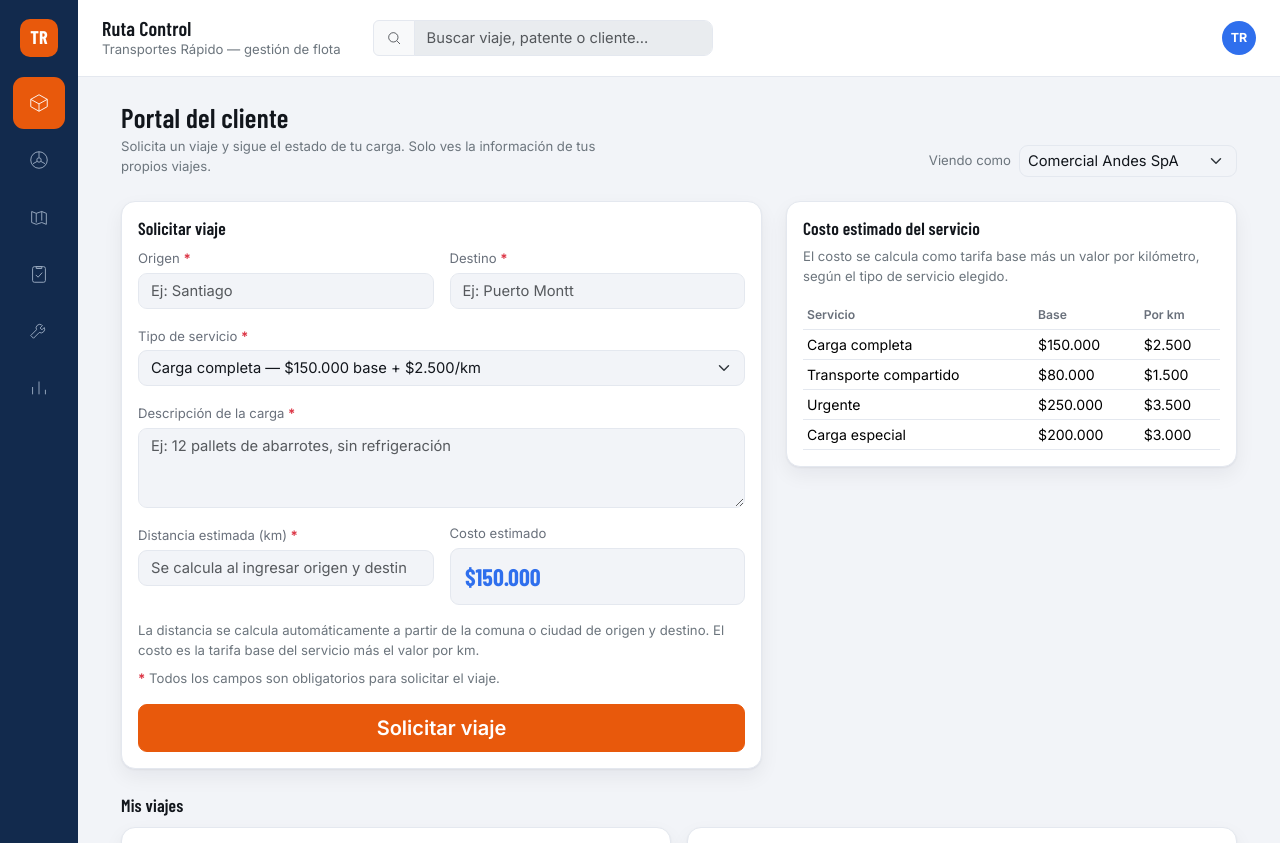
Test: App › cambia de vista al elegir cada rol en el menú lateral
Click the button named "Conductor": (39, 160) [13,134,65,186]
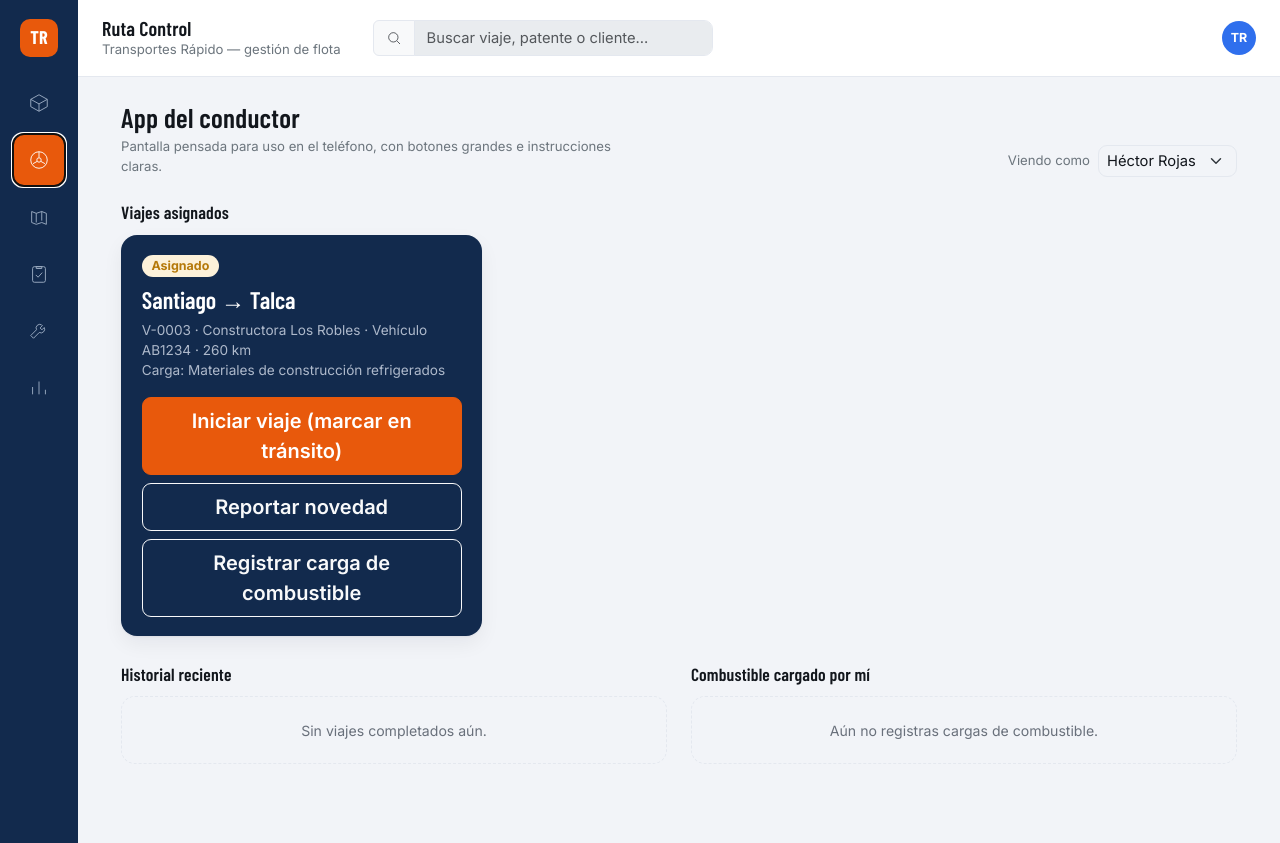
Result: the heading "App del conductor" is shown at [121,101,300,133]
Click the button named "Supervisor de ruta": (39, 217) [13,191,65,243]
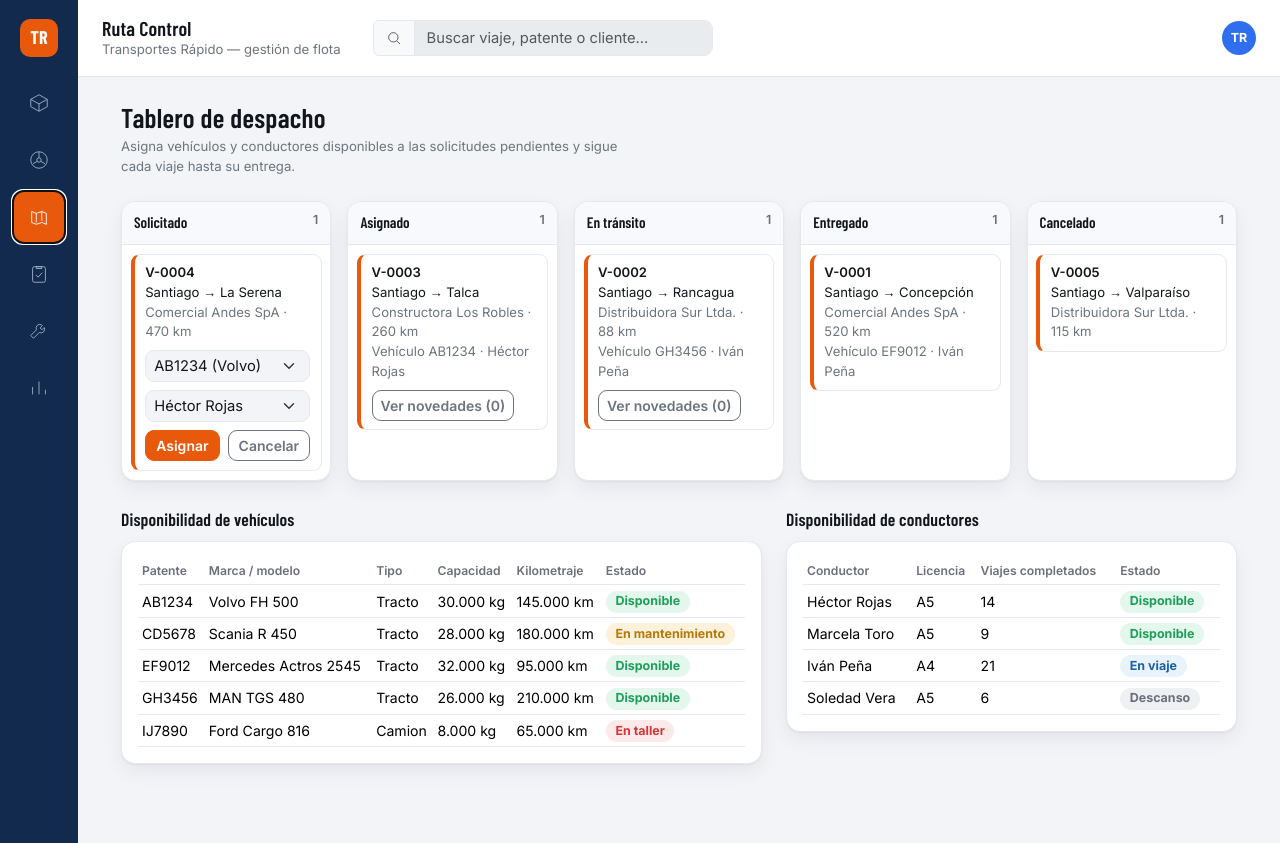
Result: the heading "Tablero de despacho" is shown at [121,101,326,133]
Click the button named "Jefe de flota": (39, 274) [13,248,65,300]
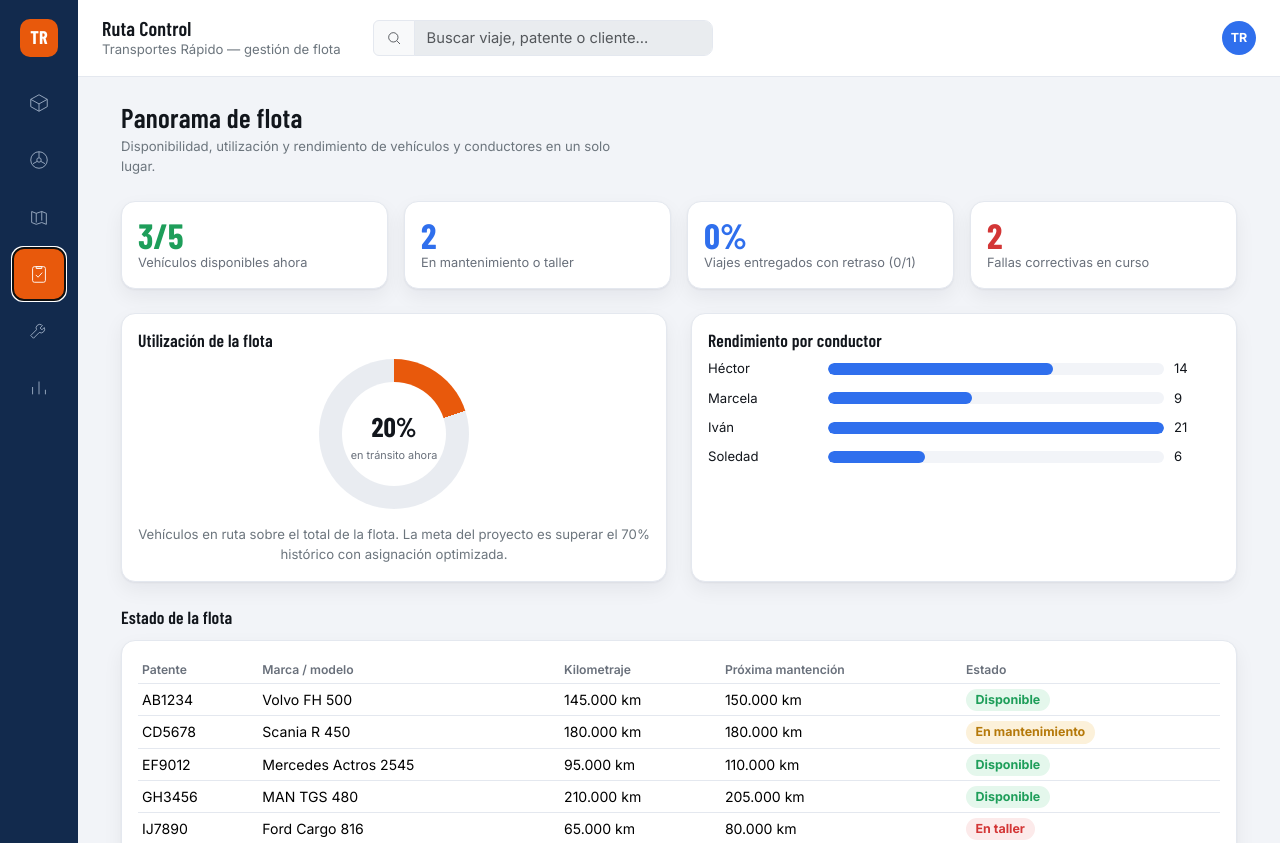
Result: the heading "Panorama de flota" is shown at [121,101,302,133]
Click the button named "Mantenimiento": (39, 330) [13,304,65,356]
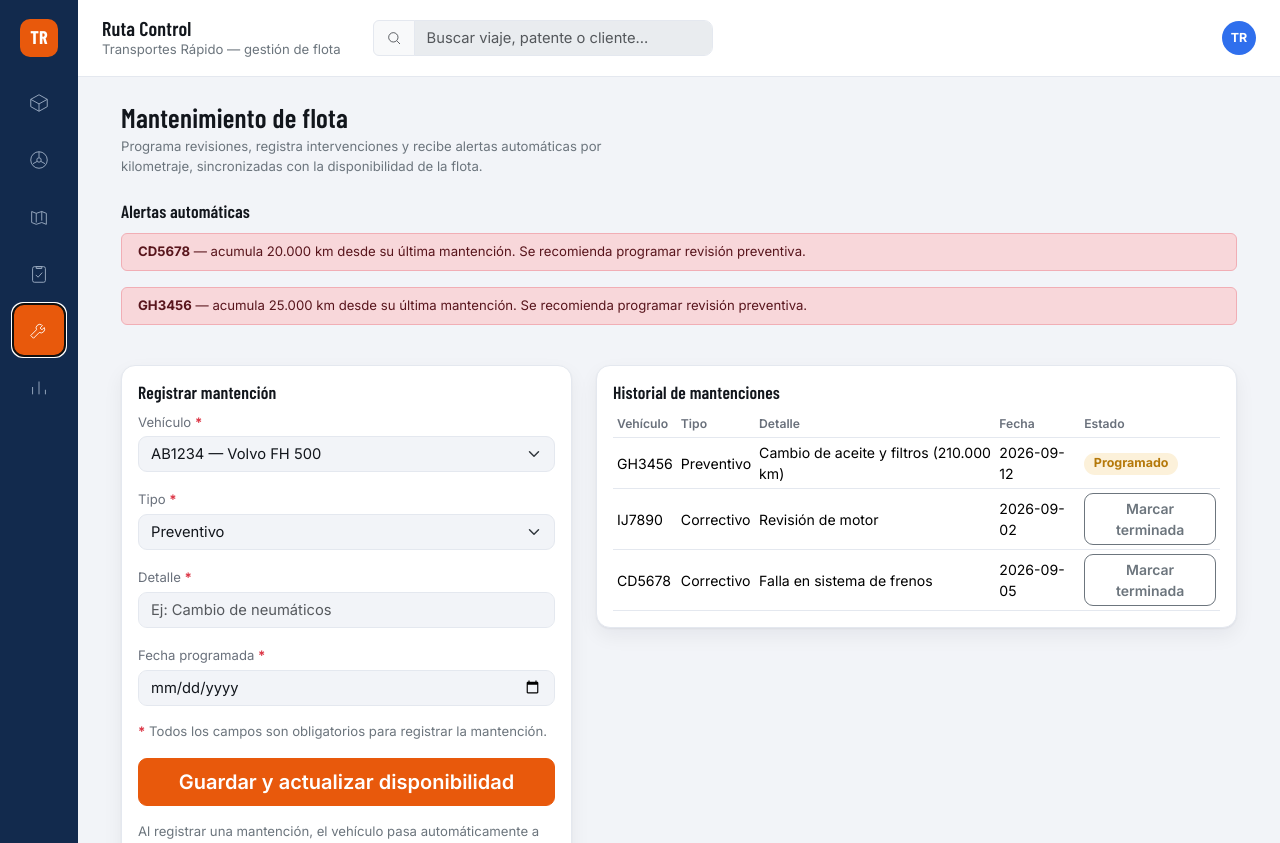
Result: the heading "Mantenimiento de flota" is shown at [121,101,348,133]
Click the button named "Administrador": (39, 387) [13,361,65,413]
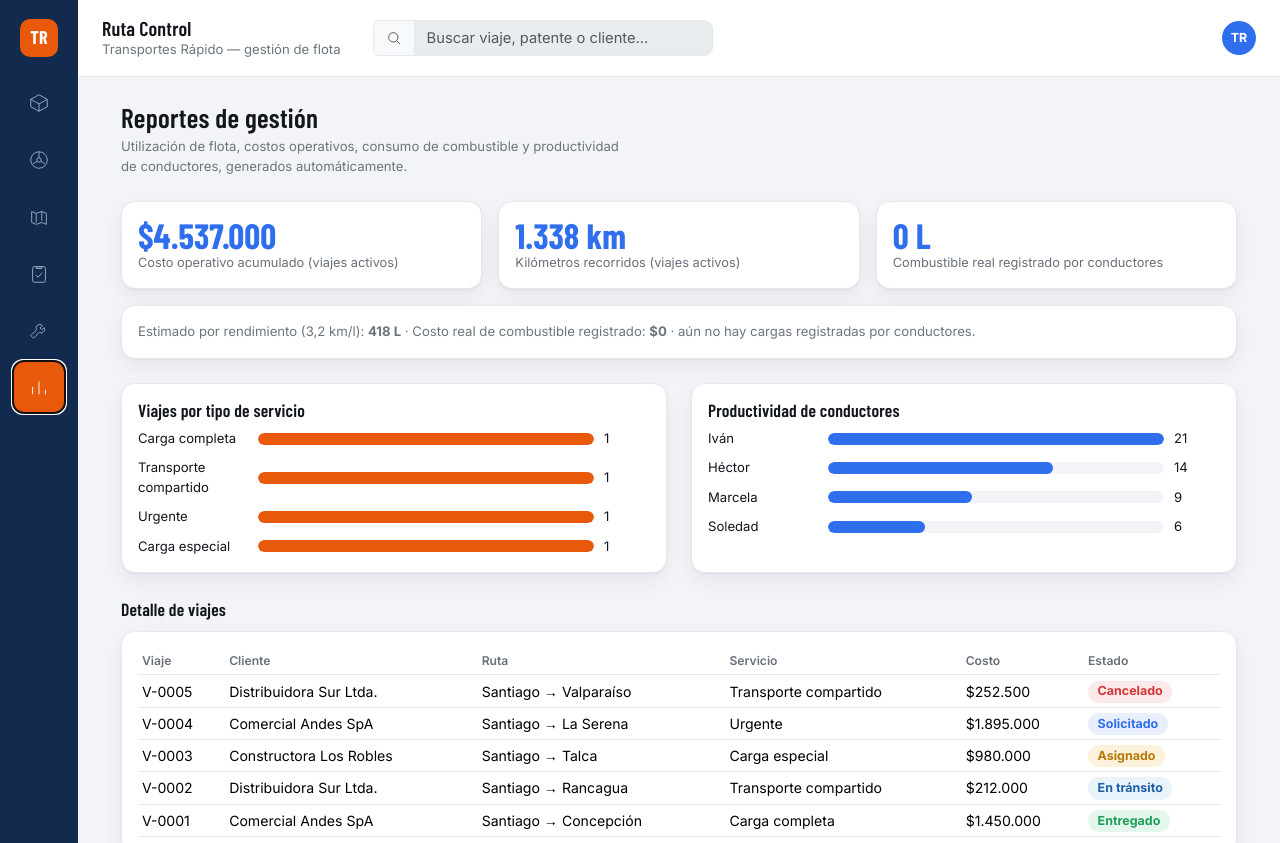
Result: the heading "Reportes de gestión" is shown at [121,101,318,133]
Click the button named "Cliente": (39, 103) [13,77,65,129]
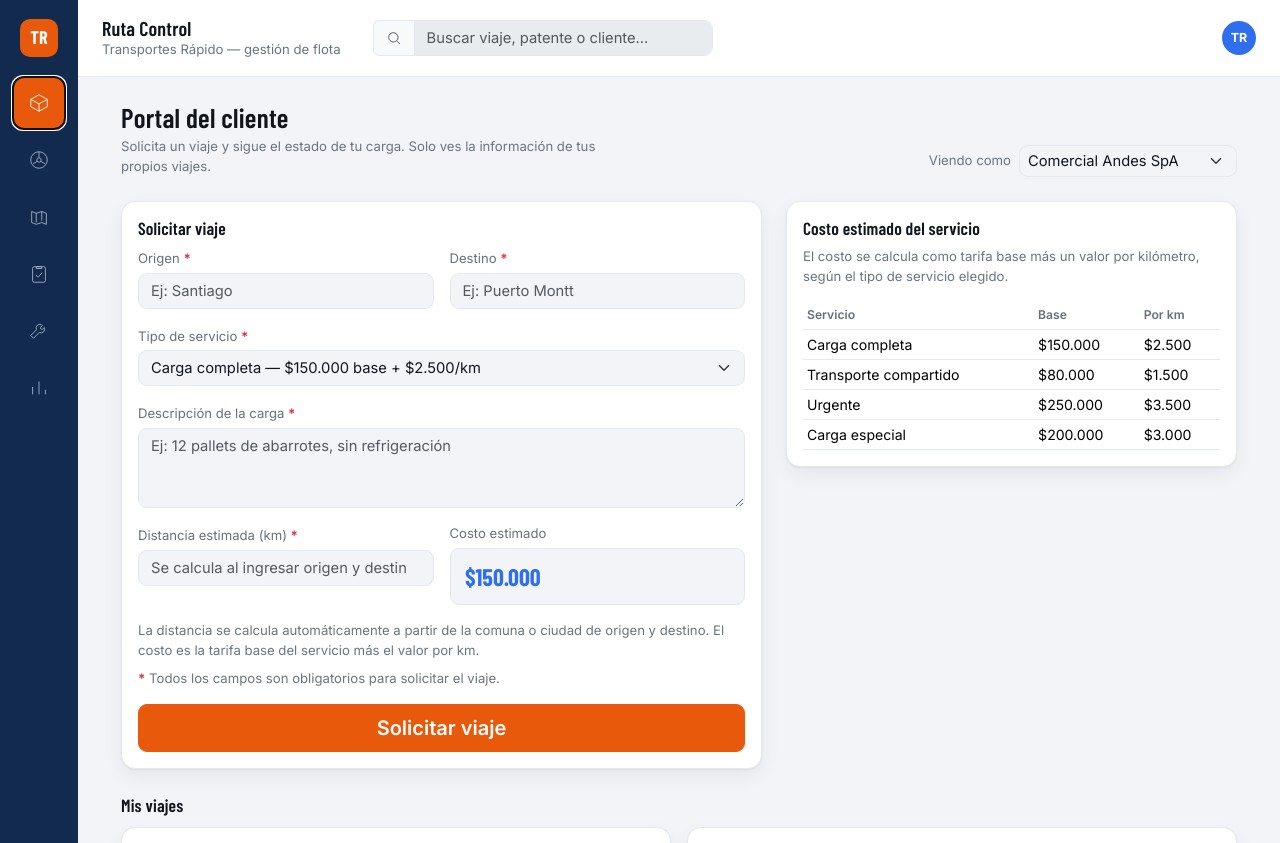
Result: the heading "Portal del cliente" is shown at [121,101,289,133]
